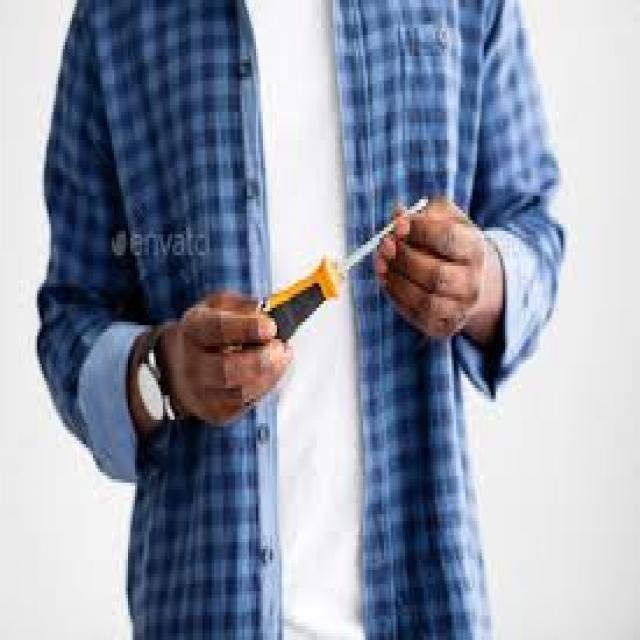screwdriver: (224, 186, 438, 382)
